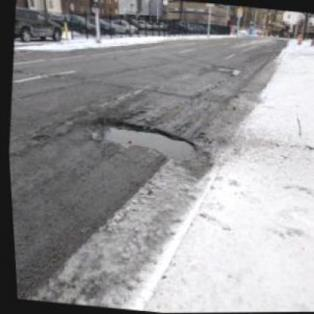Hueco: (84, 116, 198, 162)
